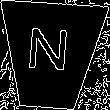N_S: (27, 29, 75, 83)
